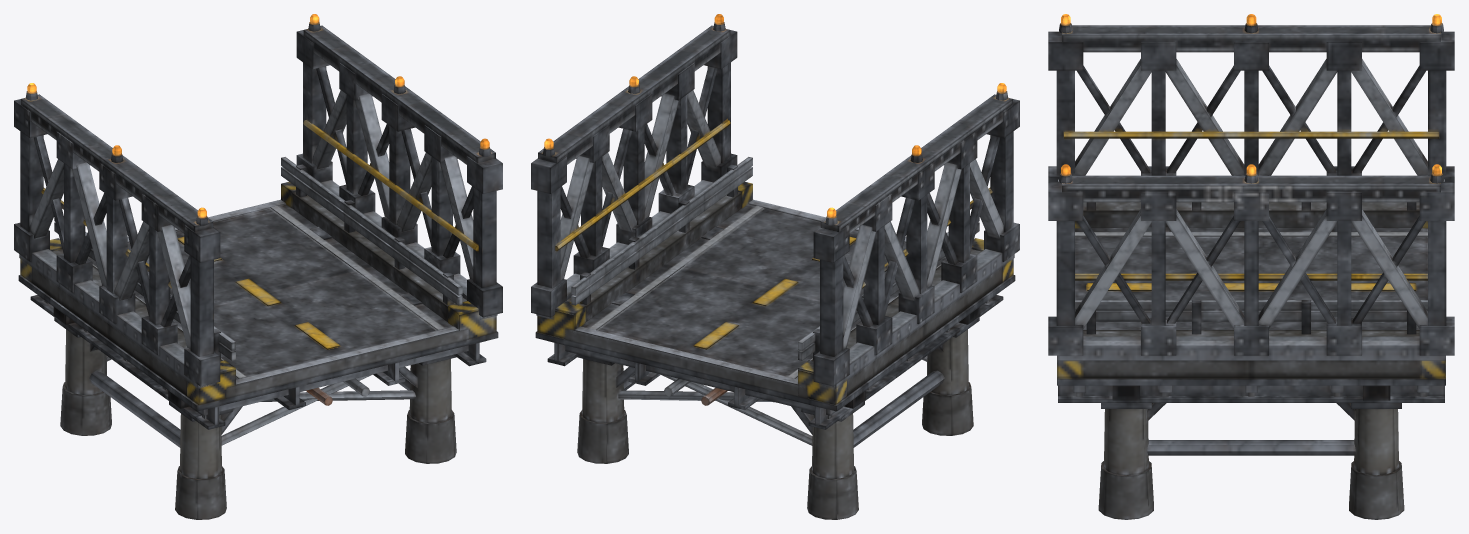
The model's file is bridge_span_intact.glb.
3 views of the same model, side by side, from view 1: azimuth 30°, elevation 25°; view 2: azimuth 150°, elevation 25°; view 3: azimuth 270°, elevation 25° (orthographic). The views are drawn at different scales.
Visible parts, largest first — view 1: Hull; view 2: Hull; view 3: Hull.
Part boxes in pixels (x1,y1,x2,y2): Hull: [14, 14, 502, 519]; Hull: [531, 14, 1019, 519]; Hull: [1048, 14, 1454, 519].
Size of what is drawn, in the model's own units: 1.95 by 2.02 by 2.08.
Materials: 1 (1 with a texture image).
